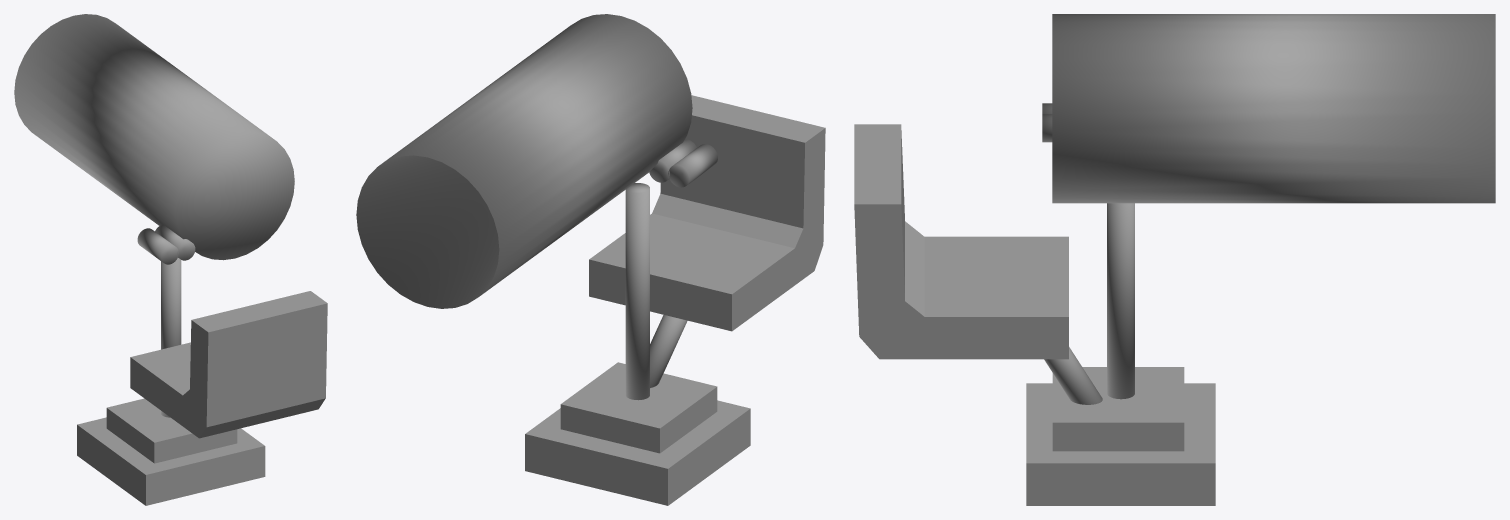
Rendered from turret_gun.dae.
3 views of the same model, side by side, from view 1: azimuth 30°, elevation 25°; view 2: azimuth 150°, elevation 25°; view 3: azimuth 270°, elevation 25° (orthographic). The views are drawn at different scales.
Visible parts, largest first — view 1: Gun, Base; view 2: Gun, Base; view 3: Gun, Base.
Part boxes in pixels (x1=…): Gun: x1=14, y1=14, x2=327, y2=463; Base: x1=77, y1=417, x2=265, y2=505; Gun: x1=356, y1=14, x2=825, y2=453; Base: x1=525, y1=400, x2=750, y2=505; Gun: x1=854, y1=14, x2=1495, y2=451; Base: x1=1026, y1=383, x2=1215, y2=505.
Size of the model in its own units: 2.65 by 6.77 by 5.47.
Materials: 1 (1 with a texture image).
